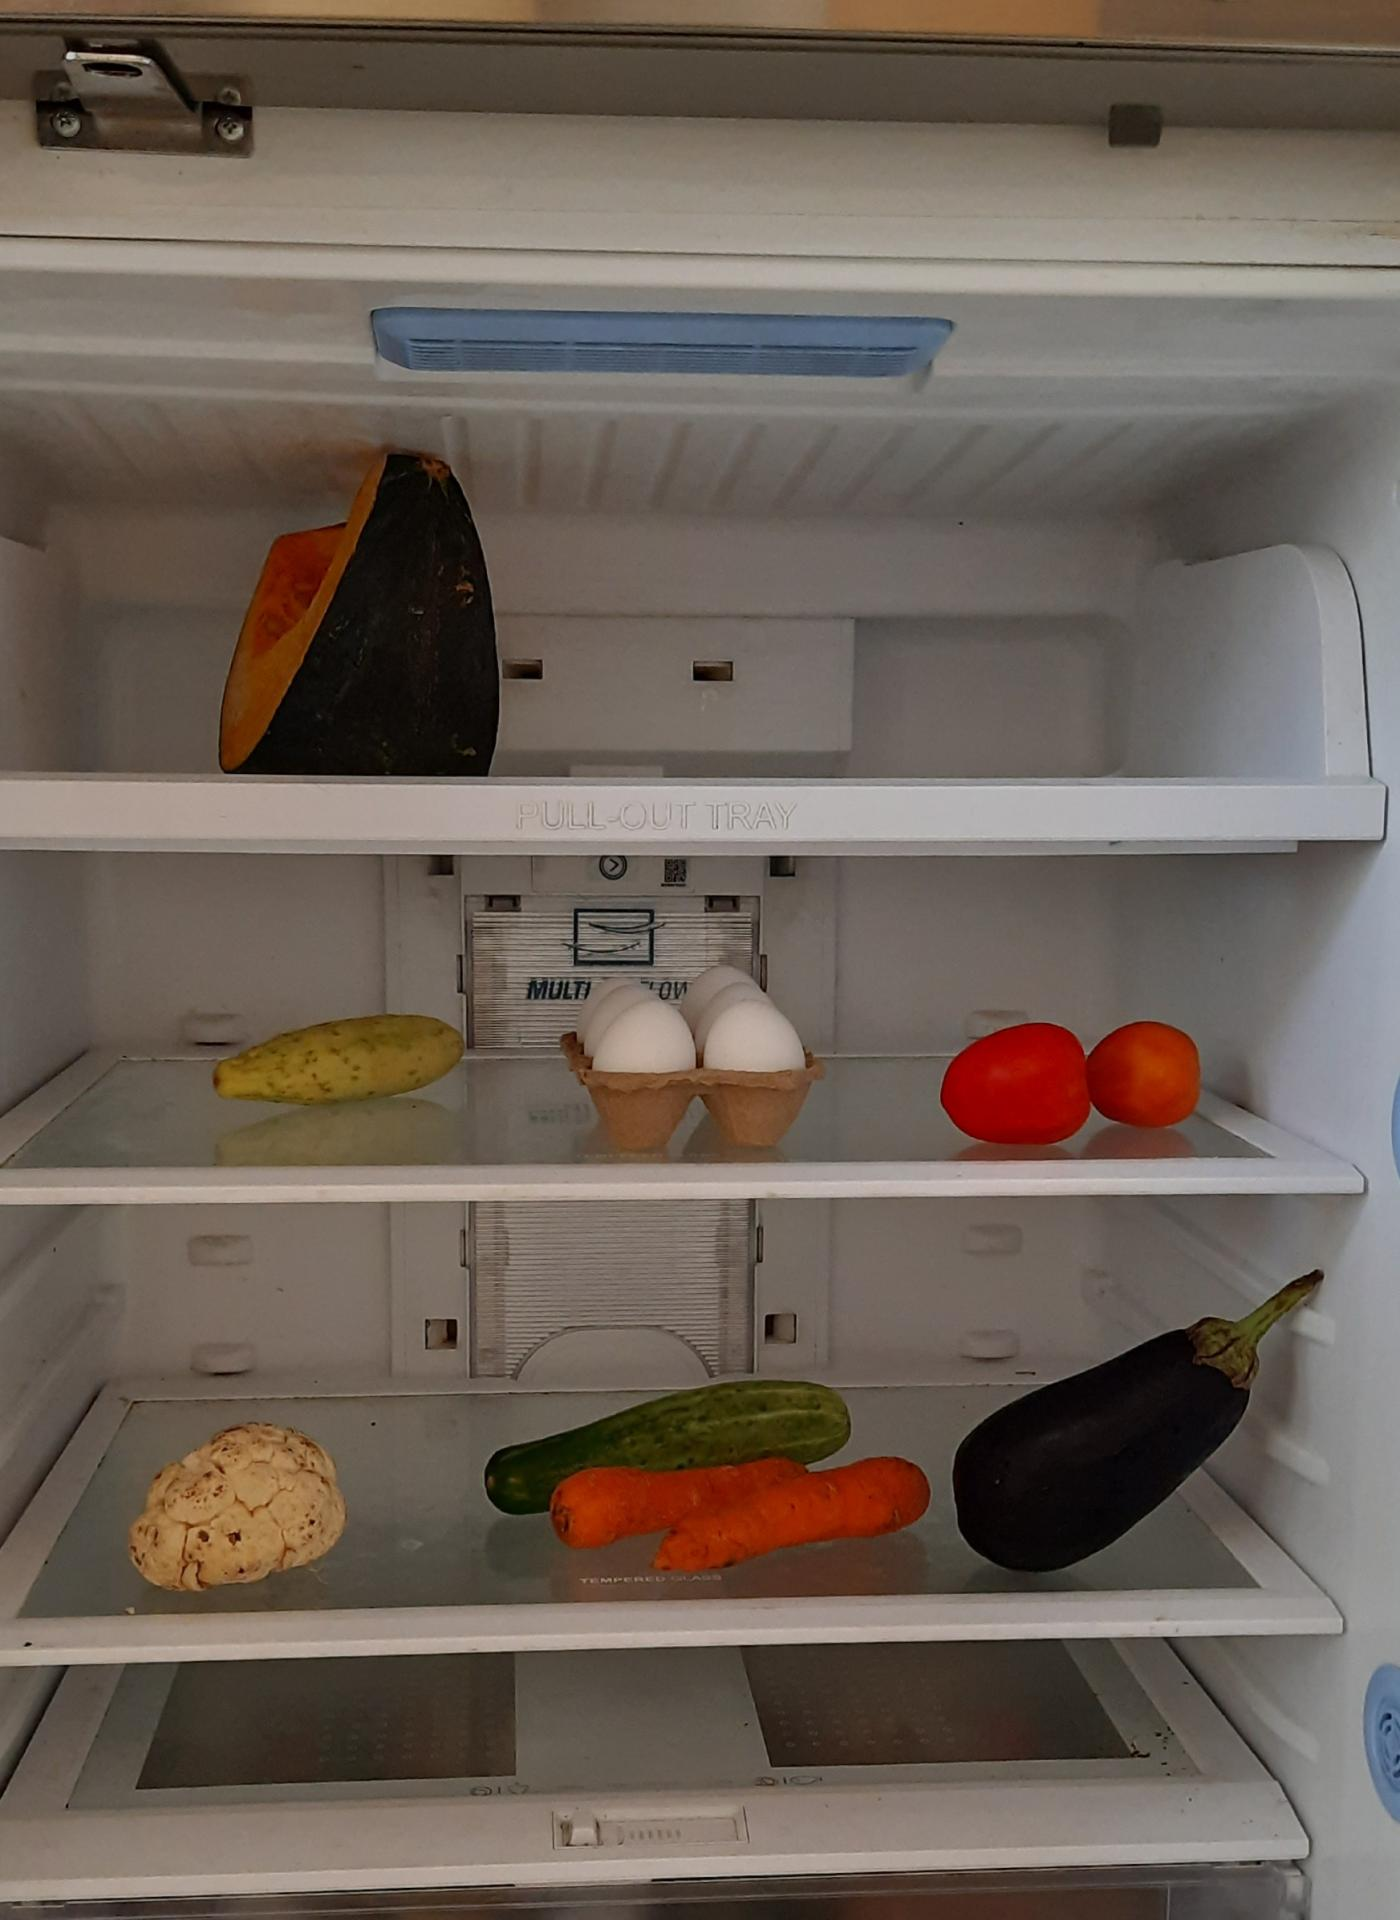brinjal: (933, 1263, 1327, 1589)
carrots: (555, 1456, 936, 1571)
cauliflower: (131, 1422, 352, 1589)
cucumber: (482, 1358, 866, 1513), (209, 1011, 468, 1108)
egg: (571, 979, 814, 1151)
pumpkin: (216, 447, 502, 775)
tomato: (935, 1020, 1202, 1140)
